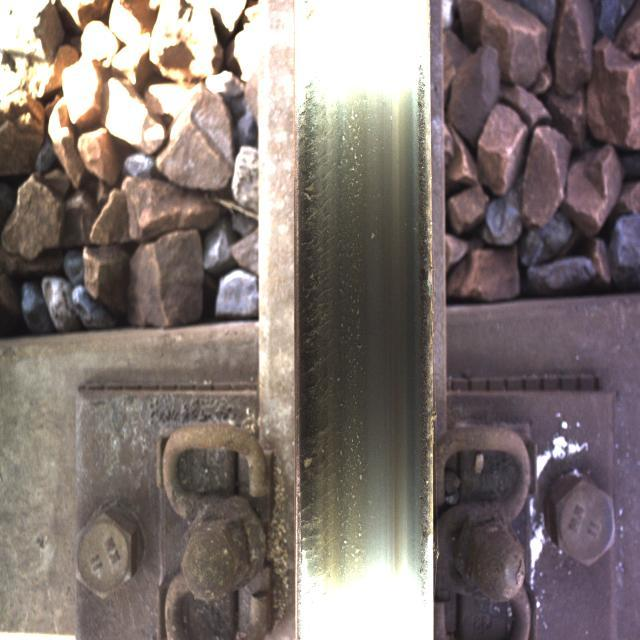normal: (300, 71, 409, 555)
